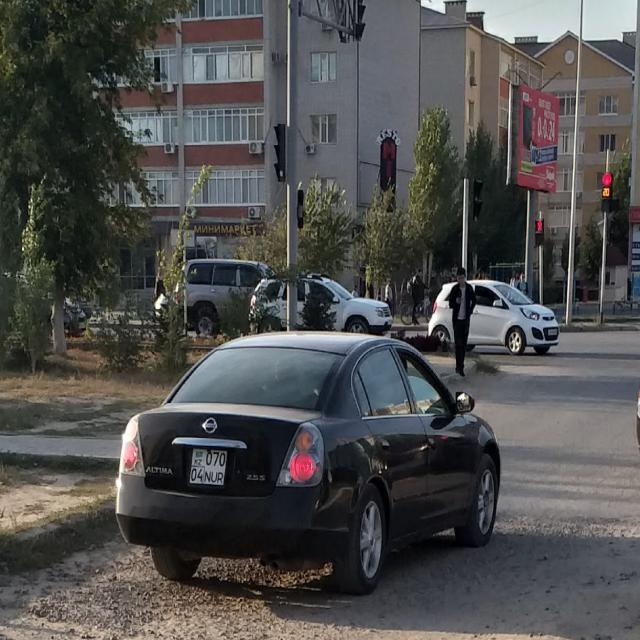car: (114, 328, 502, 595), (427, 279, 559, 355), (248, 272, 393, 334)
license: (188, 447, 227, 486)
